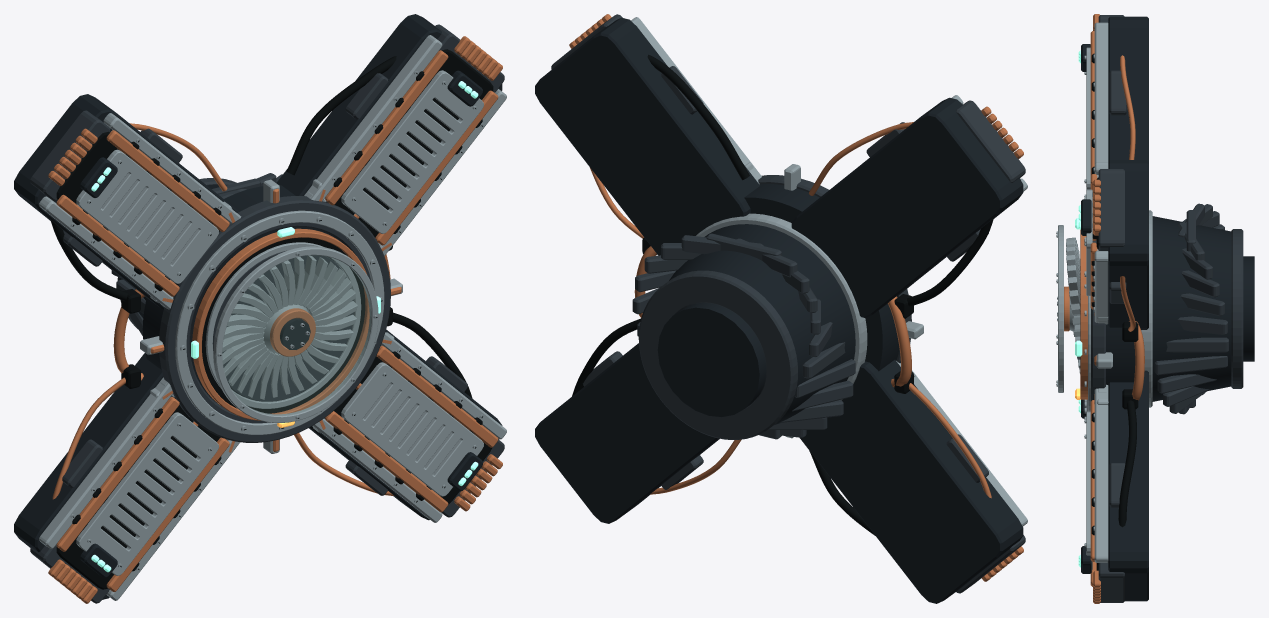
File: x-core-full.glb
The picture shows the model from 3 angles, left to right: view 1: azimuth 30°, elevation 25°; view 2: azimuth 150°, elevation 25°; view 3: azimuth 270°, elevation 25°; orthographic projection. The views are drawn at different scales.
Visible parts, largest first — view 1: chassis_Satin_machined_titanium, chassis_Satin_copper_busbar, inspection_Smoked_inspection_glass, chassis_Black_oxide_steel, chassis_Anodized_graphite_chassis, chassis_Elastomer_cable_and_gasket, rotor_Satin_machined_titanium, heatshield_2_Satin_machined_titanium, heatshield_0_Satin_machined_titanium, heatshield_3_Satin_machined_titanium, heatshield_1_Satin_machined_titanium, inspection_Satin_machined_titanium (+7 smaller); view 2: chassis_Anodized_graphite_chassis, chassis_Black_oxide_steel, chassis_Satin_machined_titanium, chassis_Satin_copper_busbar, chassis_Elastomer_cable_and_gasket; view 3: chassis_Anodized_graphite_chassis, chassis_Black_oxide_steel, chassis_Satin_machined_titanium, chassis_Satin_copper_busbar, chassis_Elastomer_cable_and_gasket, rotor_Satin_machined_titanium, inspection_Satin_machined_titanium, heatshield_2_Satin_machined_titanium, heatshield_0_Satin_machined_titanium, heatshield_3_Satin_machined_titanium, heatshield_3_Anodized_graphite_chassis.
Boxes of the visible parts, x1,y1,x2,y2 form: chassis_Satin_machined_titanium: (39, 35, 506, 600); chassis_Satin_copper_busbar: (48, 36, 502, 603); inspection_Smoked_inspection_glass: (222, 255, 371, 415); chassis_Black_oxide_steel: (30, 24, 504, 603); chassis_Anodized_graphite_chassis: (14, 14, 502, 599); chassis_Elastomer_cable_and_gasket: (50, 49, 493, 589); rotor_Satin_machined_titanium: (222, 255, 357, 399); heatshield_2_Satin_machined_titanium: (341, 362, 483, 496); heatshield_0_Satin_machined_titanium: (76, 149, 218, 283); heatshield_3_Satin_machined_titanium: (341, 70, 483, 233); heatshield_1_Satin_machined_titanium: (76, 412, 218, 575); inspection_Satin_machined_titanium: (213, 246, 378, 422); chassis_Anodized_graphite_chassis: (535, 17, 1023, 603); chassis_Black_oxide_steel: (551, 14, 1025, 593); chassis_Satin_machined_titanium: (631, 17, 1027, 526); chassis_Satin_copper_busbar: (569, 14, 1023, 581); chassis_Elastomer_cable_and_gasket: (572, 54, 993, 535); chassis_Anodized_graphite_chassis: (1106, 16, 1254, 601); chassis_Black_oxide_steel: (1091, 15, 1243, 602); chassis_Satin_machined_titanium: (1084, 22, 1152, 562); chassis_Satin_copper_busbar: (1080, 14, 1144, 603); chassis_Elastomer_cable_and_gasket: (1084, 53, 1138, 570); rotor_Satin_machined_titanium: (1057, 237, 1080, 373); inspection_Satin_machined_titanium: (1056, 225, 1063, 392); heatshield_2_Satin_machined_titanium: (1084, 411, 1092, 569); heatshield_0_Satin_machined_titanium: (1084, 47, 1090, 196); heatshield_3_Satin_machined_titanium: (1084, 189, 1092, 295); heatshield_3_Anodized_graphite_chassis: (1081, 199, 1091, 235).
Size of the model in its own units: 3.42 by 3.42 by 1.4.
